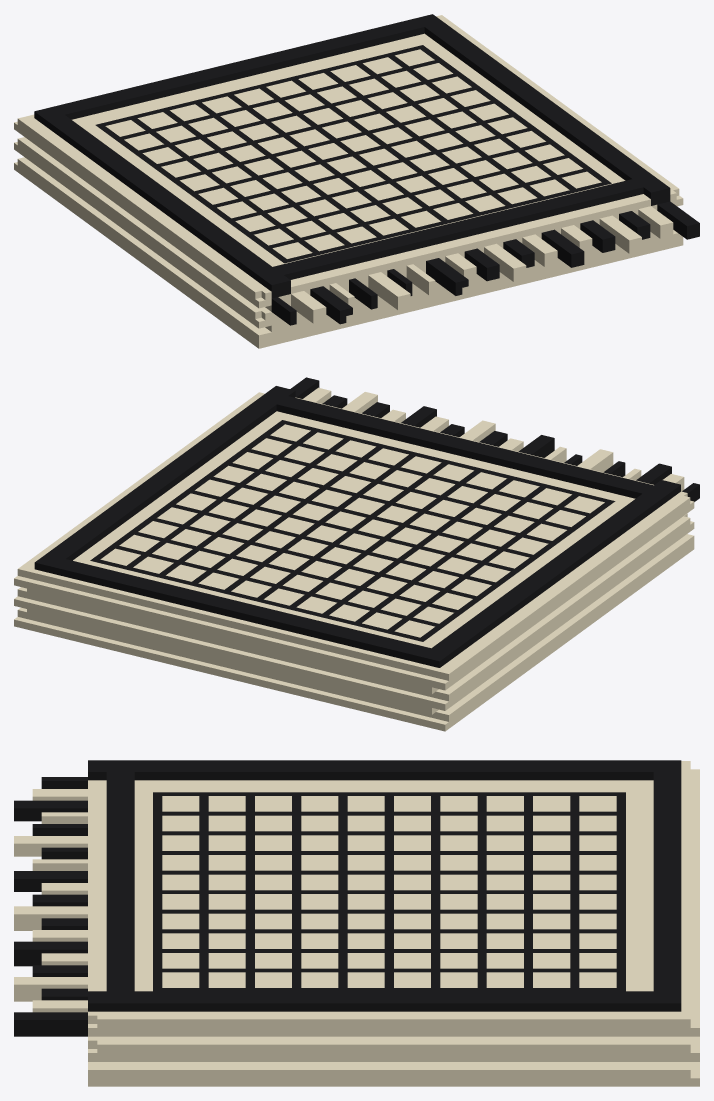
Rendered from keffiyeh.glb.
The picture shows the model from 3 angles, top to bottom: view 1: azimuth 30°, elevation 25°; view 2: azimuth 150°, elevation 25°; view 3: azimuth 270°, elevation 25°; orthographic projection. The views are drawn at different scales.
Parts seen in each view (by area): view 1: keffiyeh:compound; view 2: keffiyeh:compound; view 3: keffiyeh:compound.
Part boxes in pixels (box(x1,y1,x2,y2)): keffiyeh:compound: box(14, 14, 699, 348); keffiyeh:compound: box(14, 377, 699, 731); keffiyeh:compound: box(14, 760, 699, 1086).
Size of the model in its own units: 0.264 by 0.036 by 0.296.
